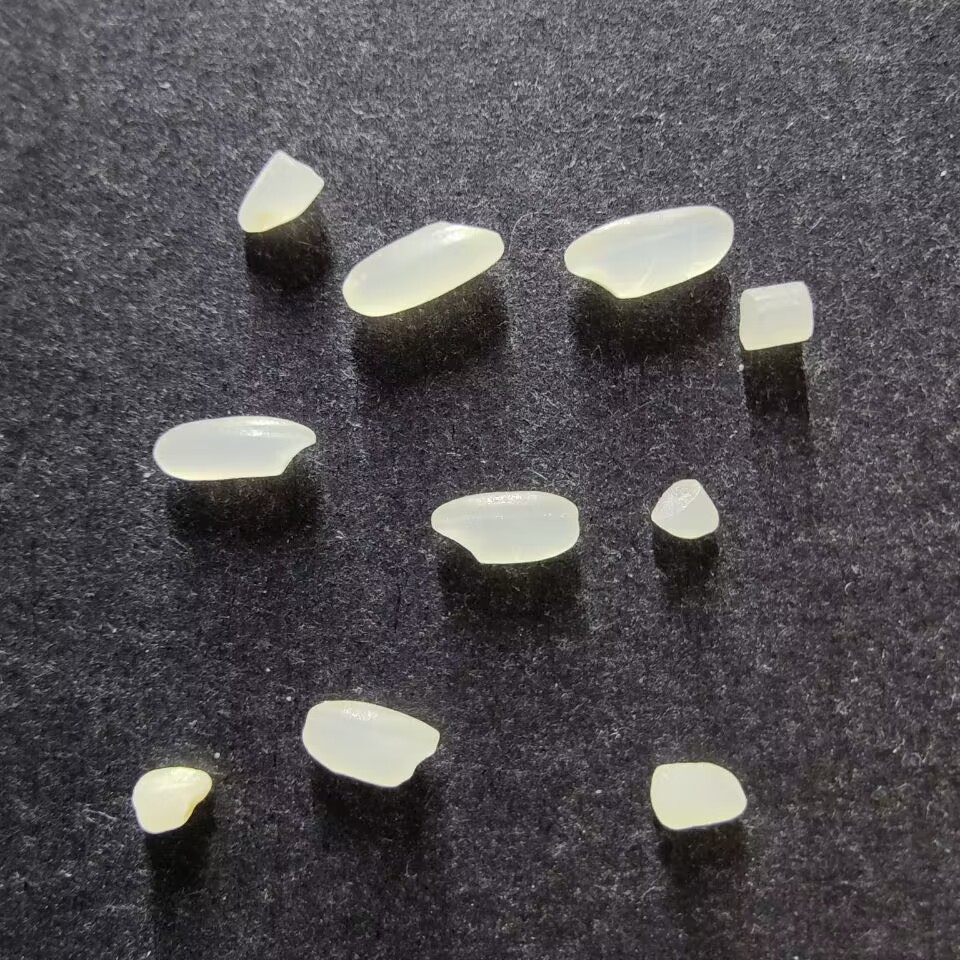broken: (236, 150, 325, 233), (650, 761, 746, 831), (131, 766, 212, 834), (737, 280, 814, 350), (649, 478, 720, 540)
rice: (563, 204, 732, 298), (341, 220, 504, 317), (301, 699, 439, 788), (429, 490, 580, 564), (152, 414, 316, 481)
